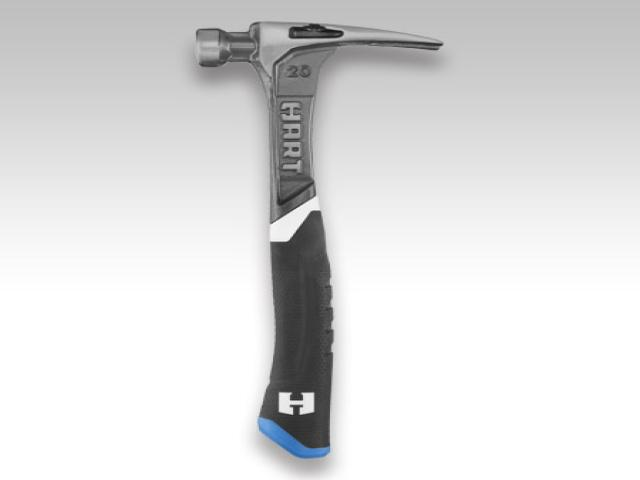Screwdriver: (196, 22, 442, 458)
